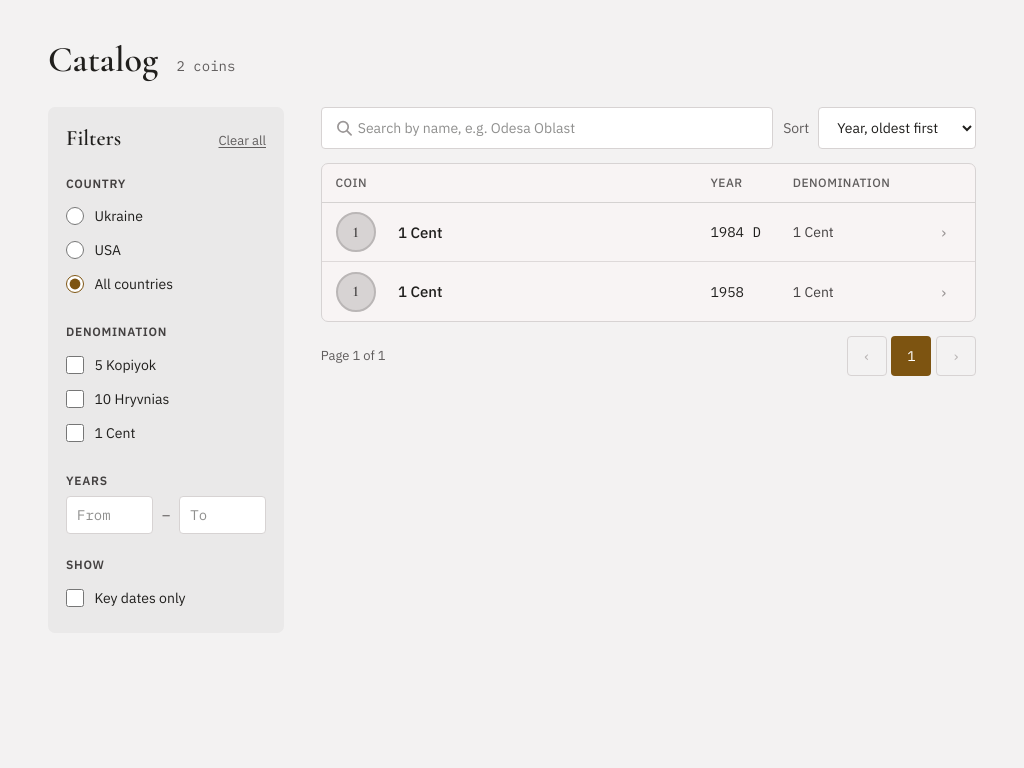
it: CatalogPage › Clear all (criterion #8) › cancels a pending search debounce
The width and height of the screenshot is (1024, 768).
In the search field with test id "catalog-search": {"x": 547, "y": 128} [321,107,773,149], type "lincoln"
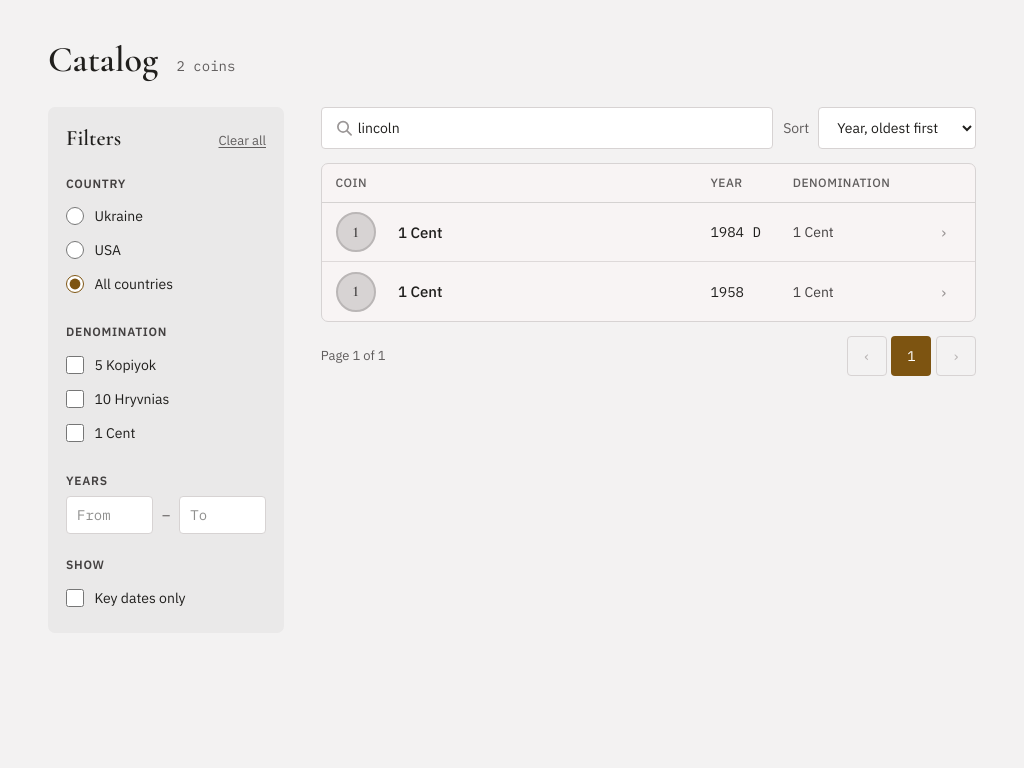
Click the button with test id "catalog-clear-all": {"x": 242, "y": 141} [218,131,266,151]
Wait 300 ms
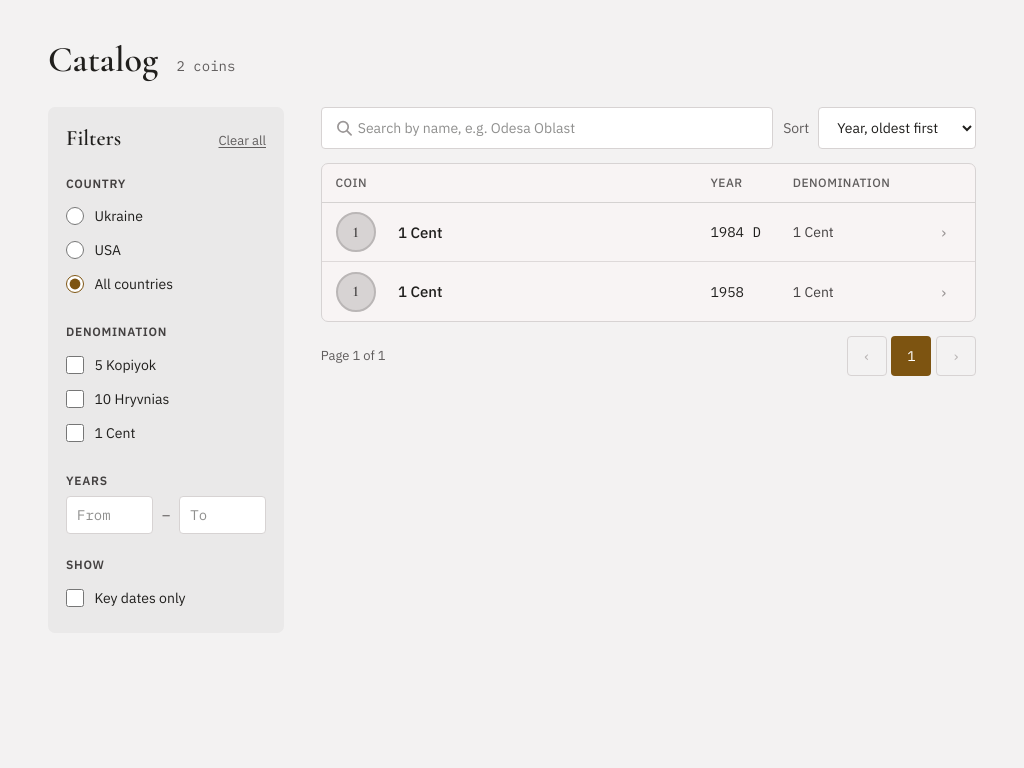
Expected: the search field with test id "catalog-search" is empty, [321,107,773,149]
